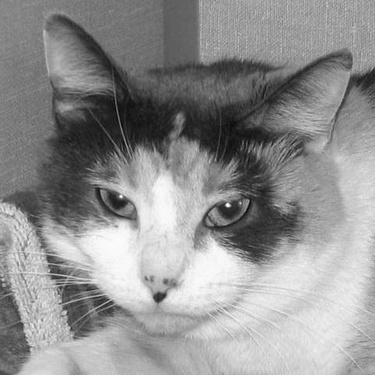cat: (22, 15, 367, 351)
